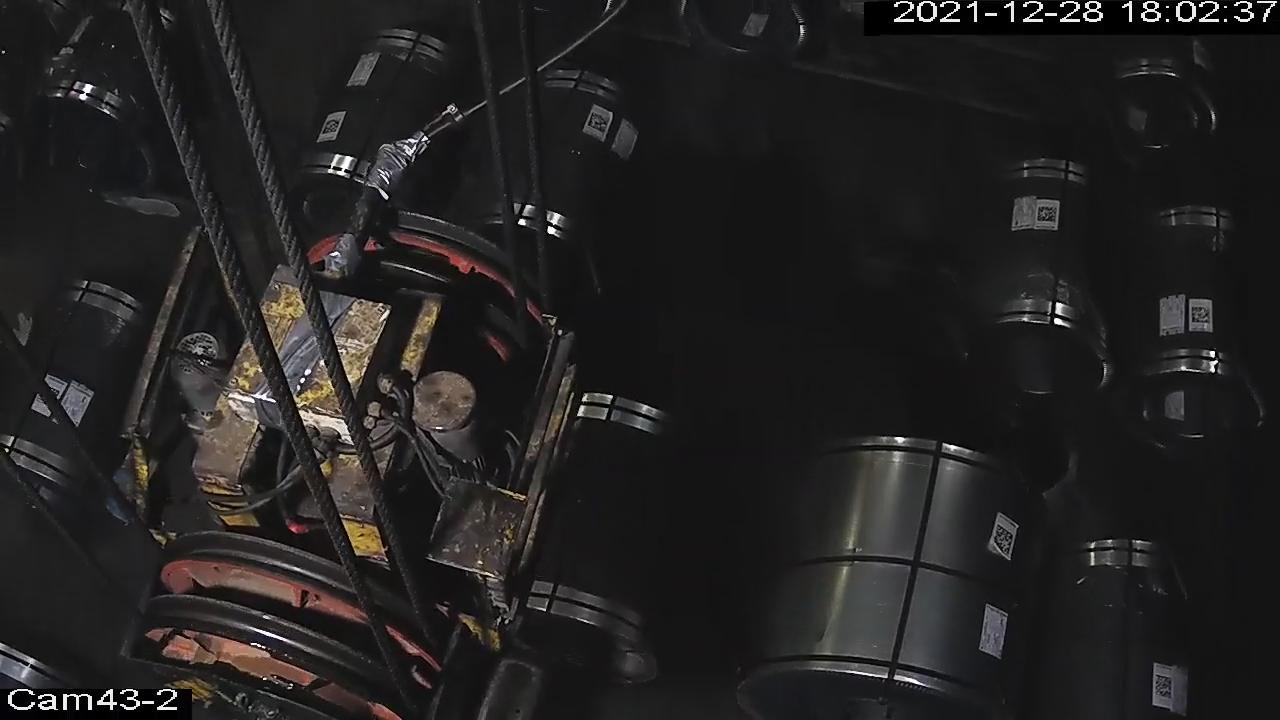data matrix: (990, 523, 1018, 559), (587, 110, 614, 137), (1152, 674, 1178, 702), (1037, 205, 1060, 226), (321, 117, 344, 137), (1191, 306, 1213, 326)
